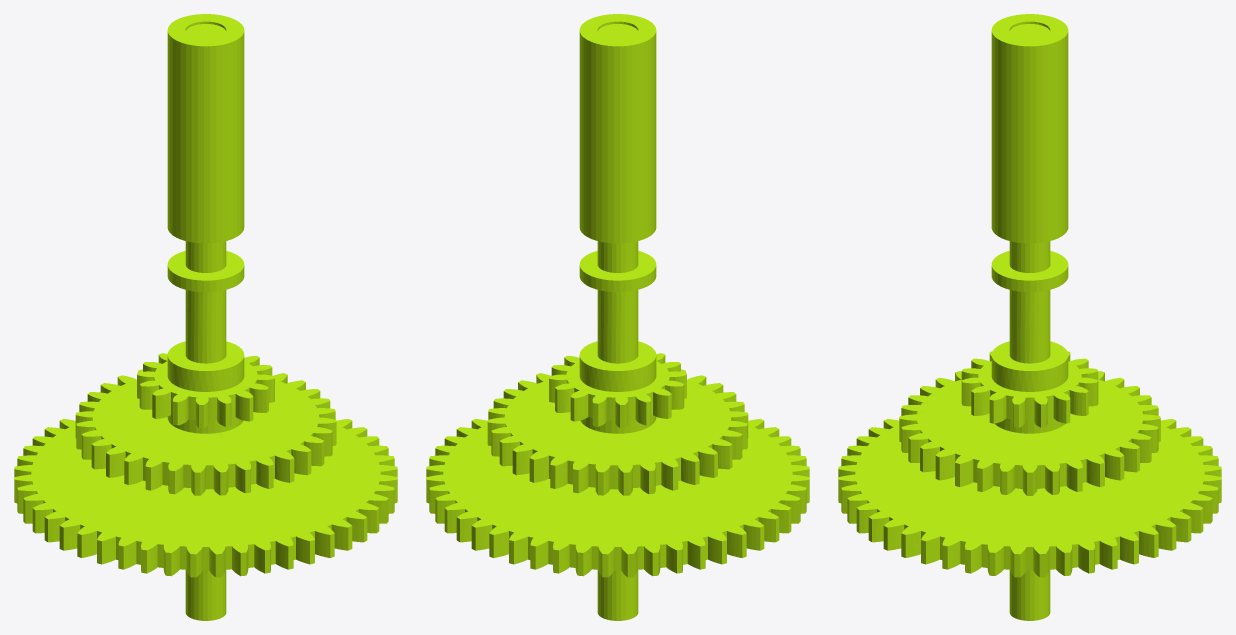
Rendered from inputshaft.glb.
3 renders of one model, left to right at view 1: azimuth 30°, elevation 25°; view 2: azimuth 150°, elevation 25°; view 3: azimuth 270°, elevation 25°, orthographic.
Parts seen in each view (by area): view 1: node_id3; view 2: node_id3; view 3: node_id3.
Part boxes in pixels (bbox=[...]): node_id3: bbox=[14, 14, 397, 620]; node_id3: bbox=[426, 14, 809, 620]; node_id3: bbox=[838, 14, 1221, 620].
Bounding box in the file's own units: 0.3056 × 0.512 × 0.3056.
Materials: 1 (1 with a texture image).
